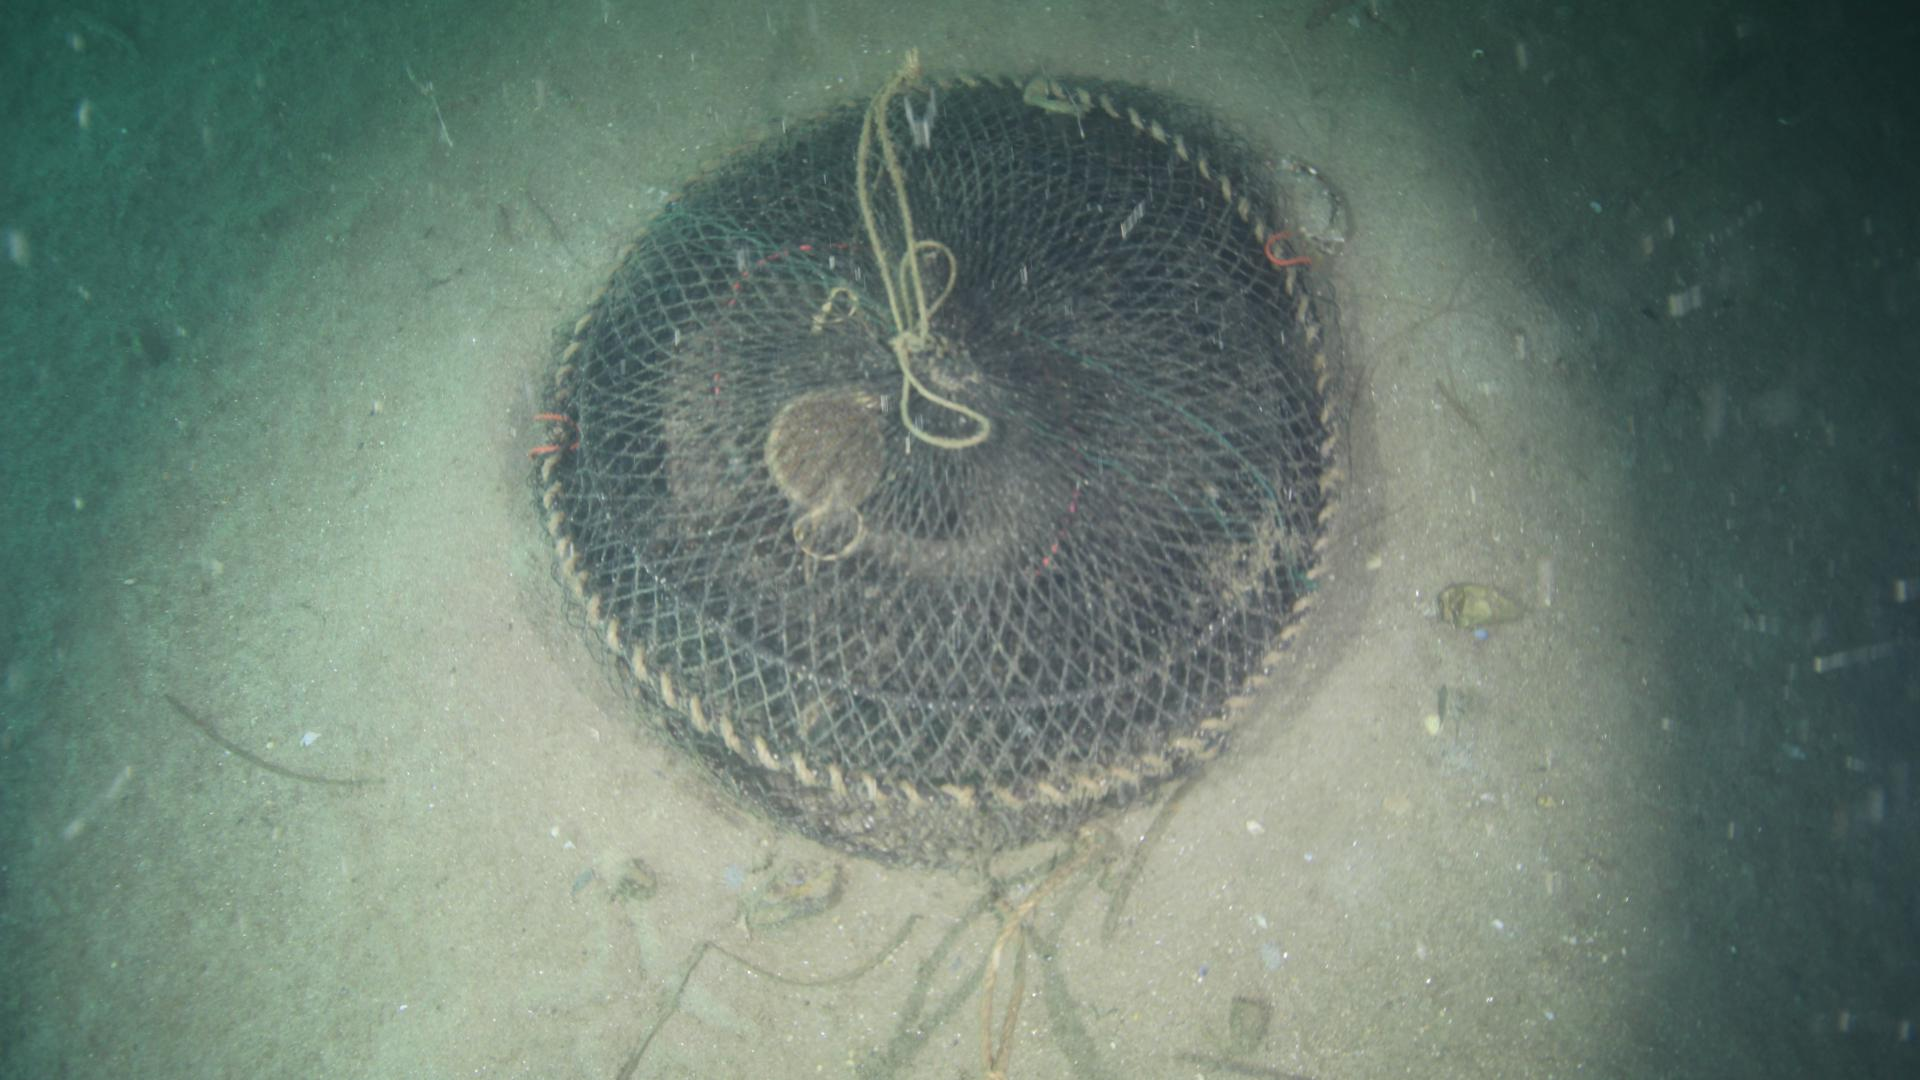bundle of ropes: (852, 44, 989, 450)
circular fish trap: (525, 61, 1360, 848)
